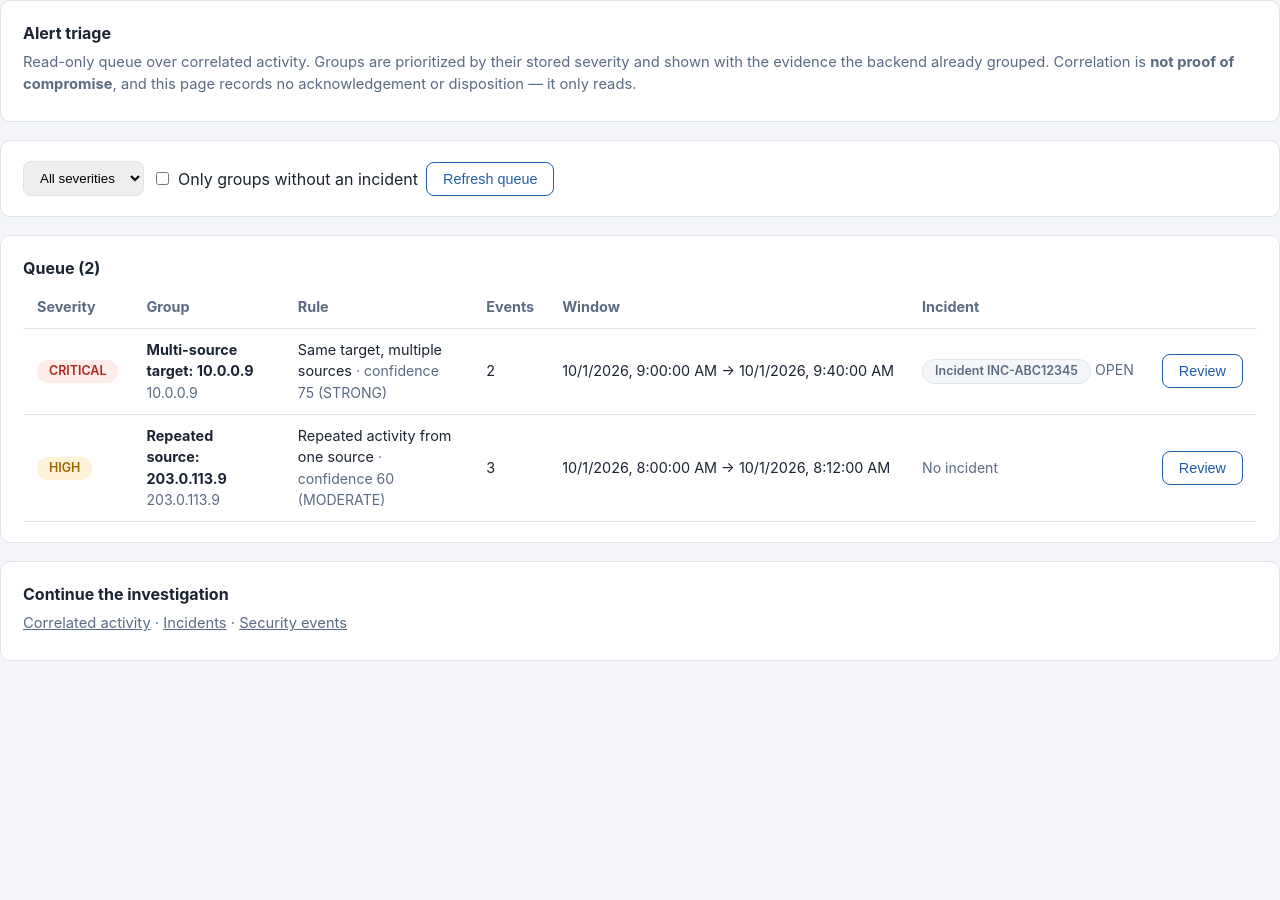
Alert triage queue (Phase 3, Step 37) › supports an unlinked-only filter once incident association is known
Expected: the number of rows is 3, [23,286,1257,328]; [23,328,1257,414]; [23,414,1257,522]
Step 1. Click the checkbox labelled "Only groups without an incident" → (162, 179), box [156,172,169,185]
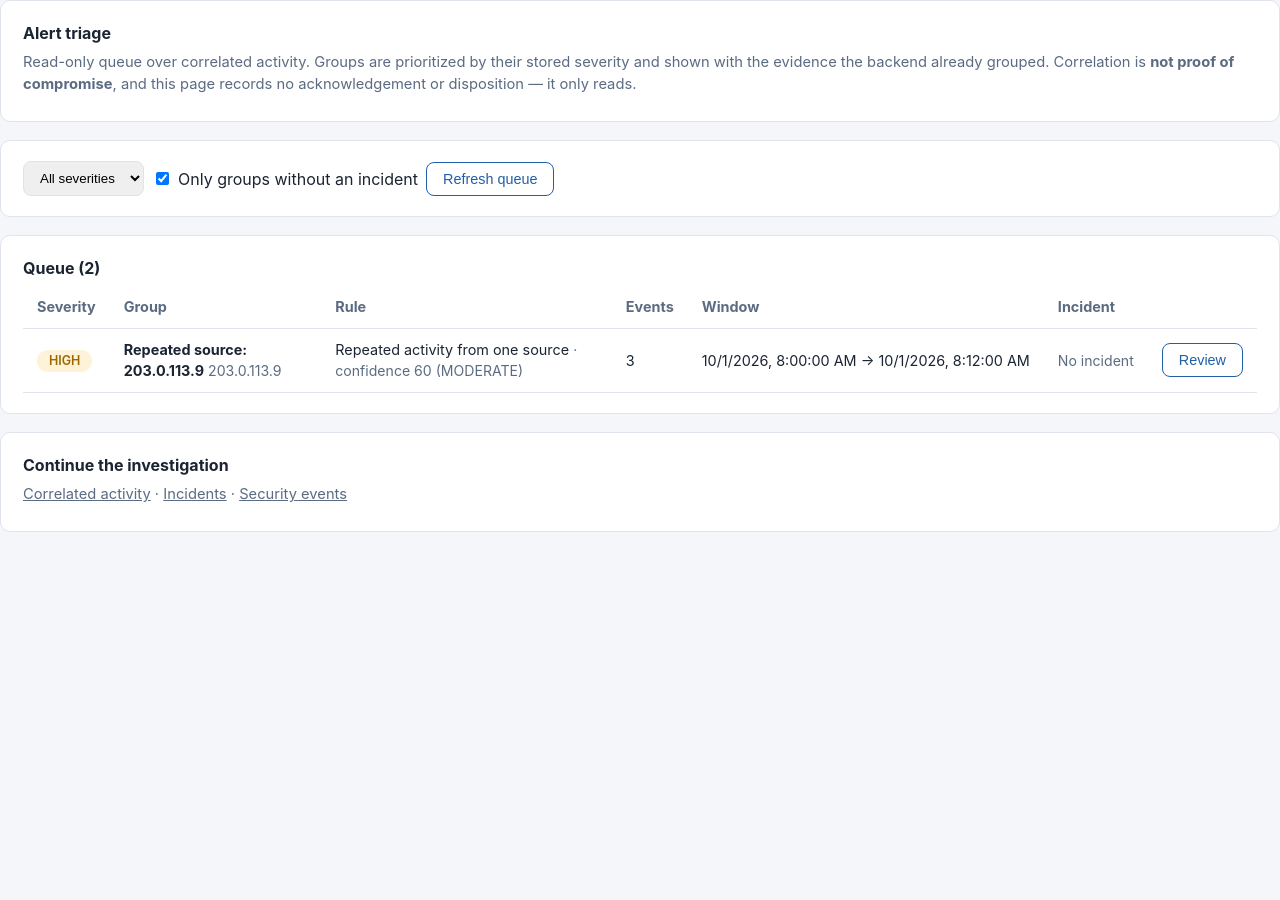
Expected: the text "Repeated source: 203.0.113.9" is shown, [124,341,247,379]
Expected: the text "Multi-source target: 10.0.0.9" is gone
